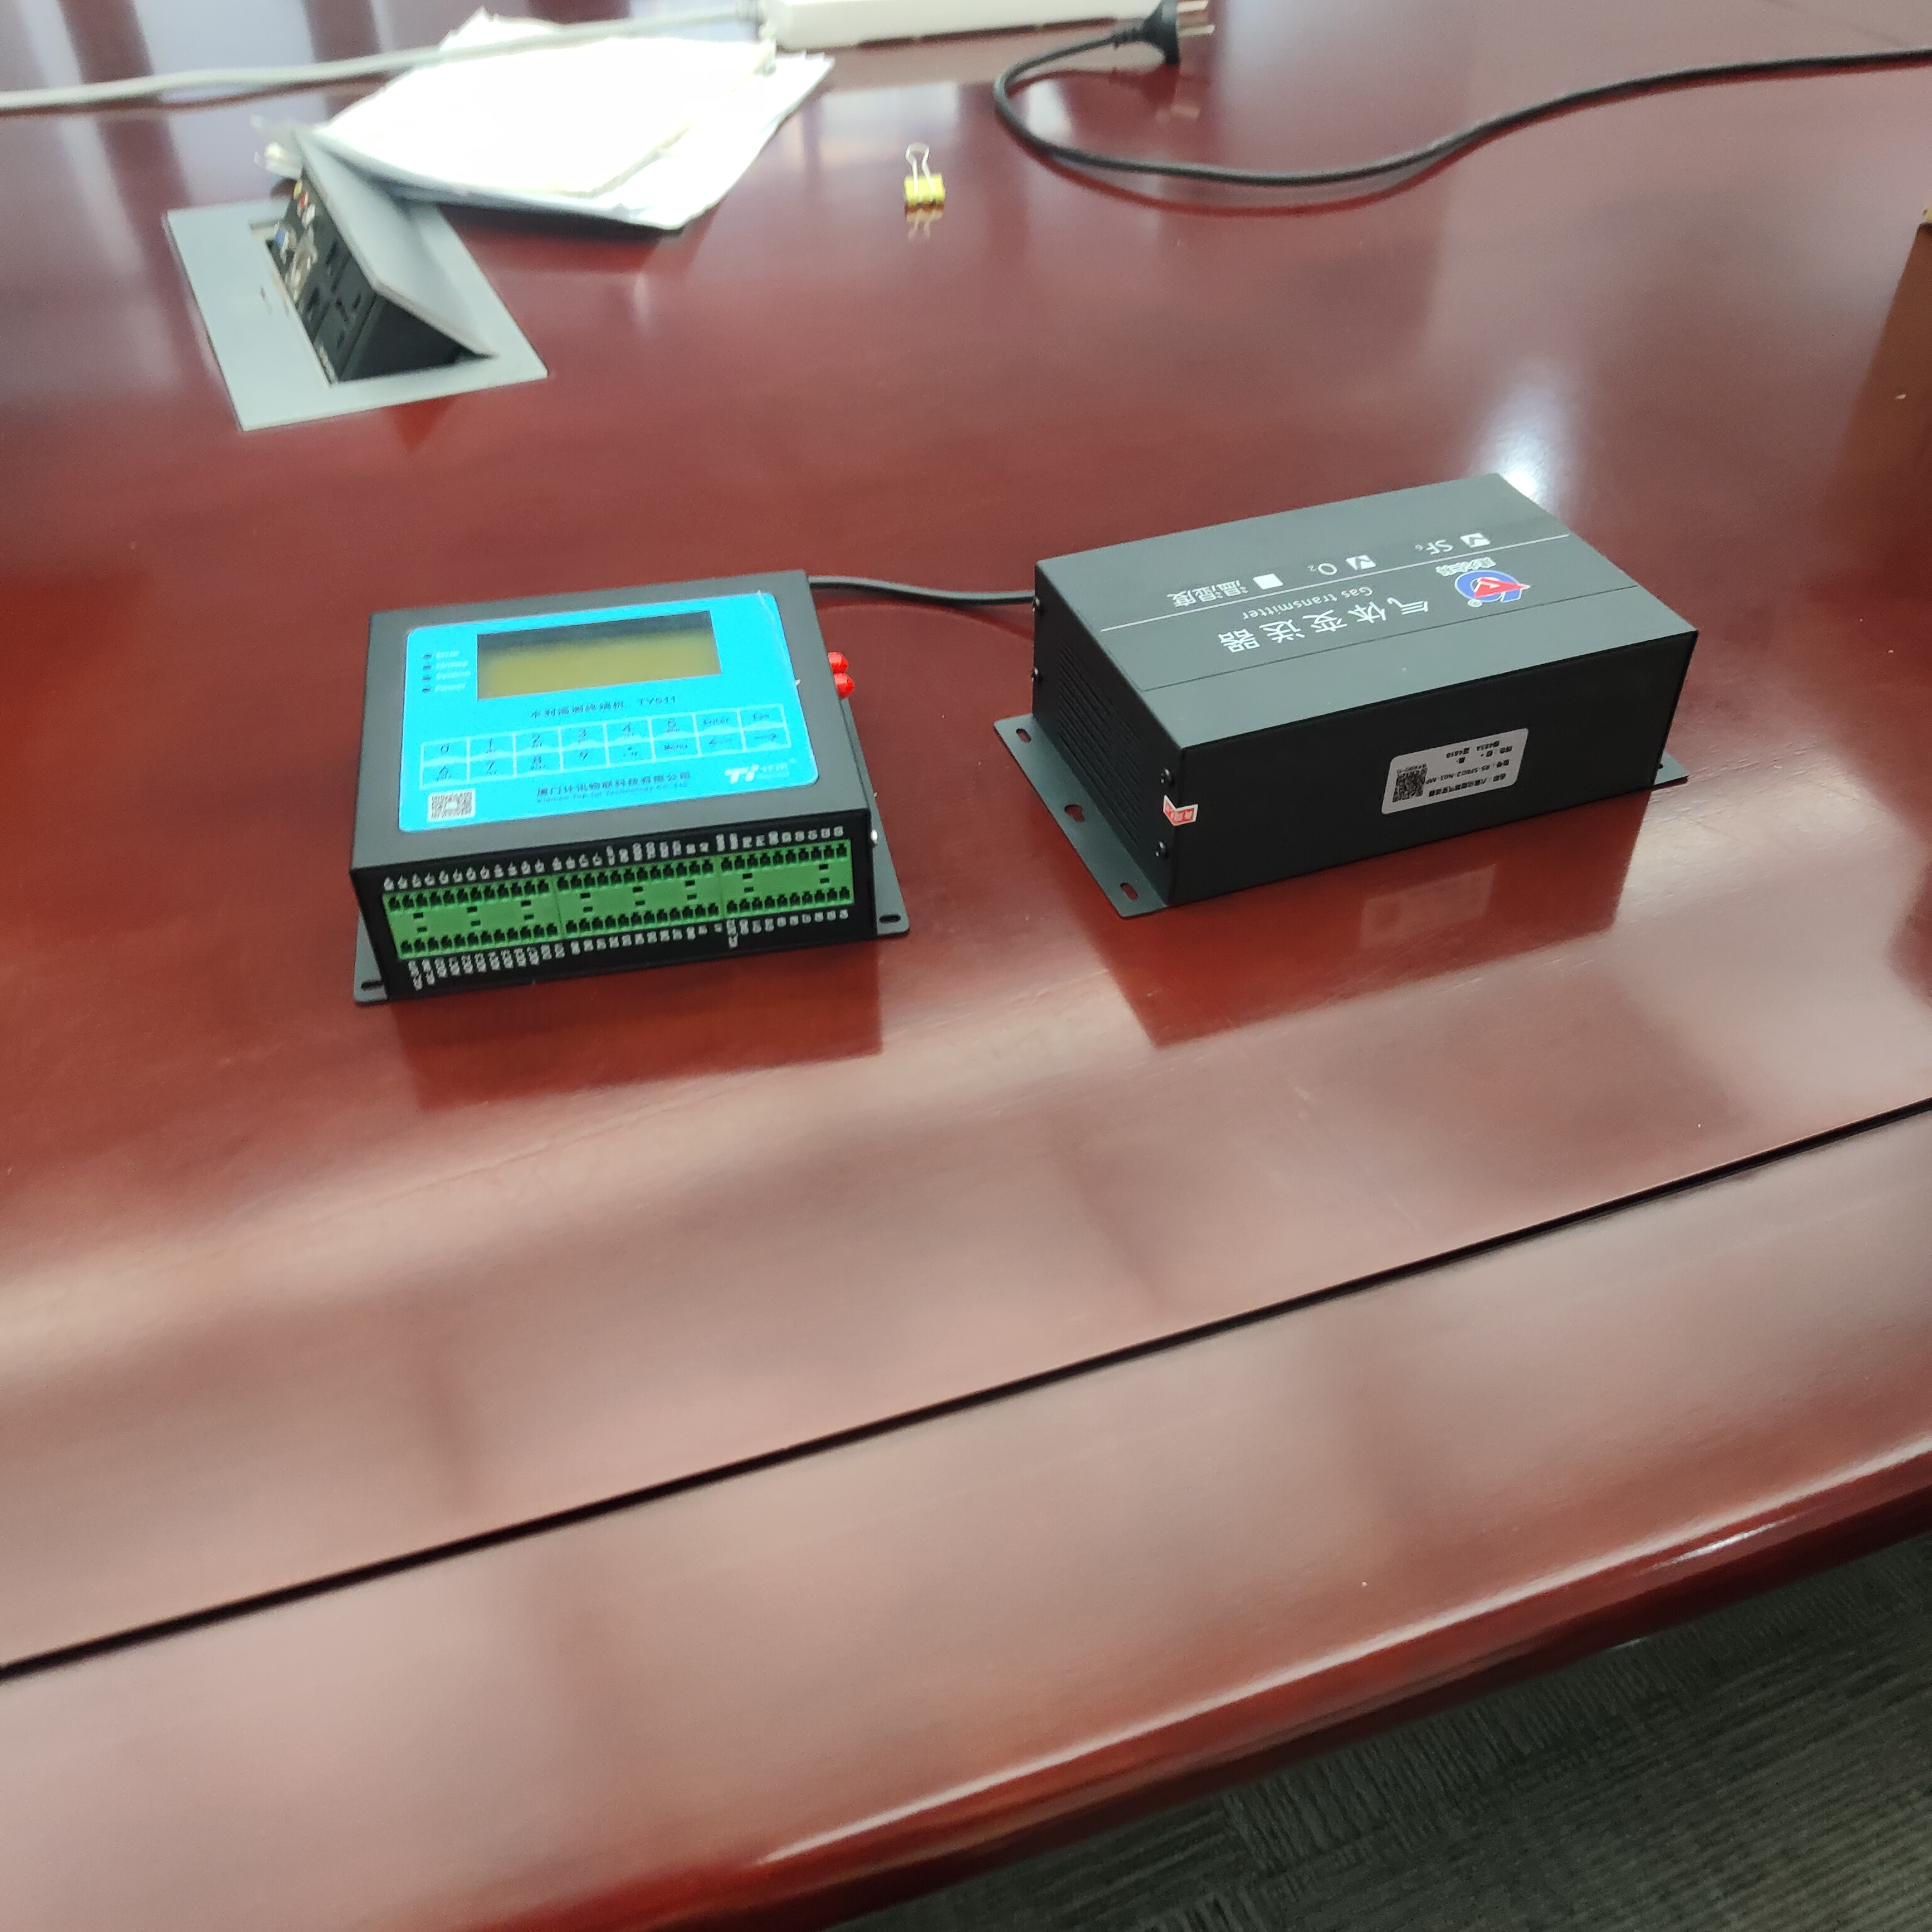qtbsq: (977, 485, 1711, 897)
slyczd: (320, 575, 920, 1003)
